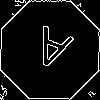A: (25, 25, 75, 80)
